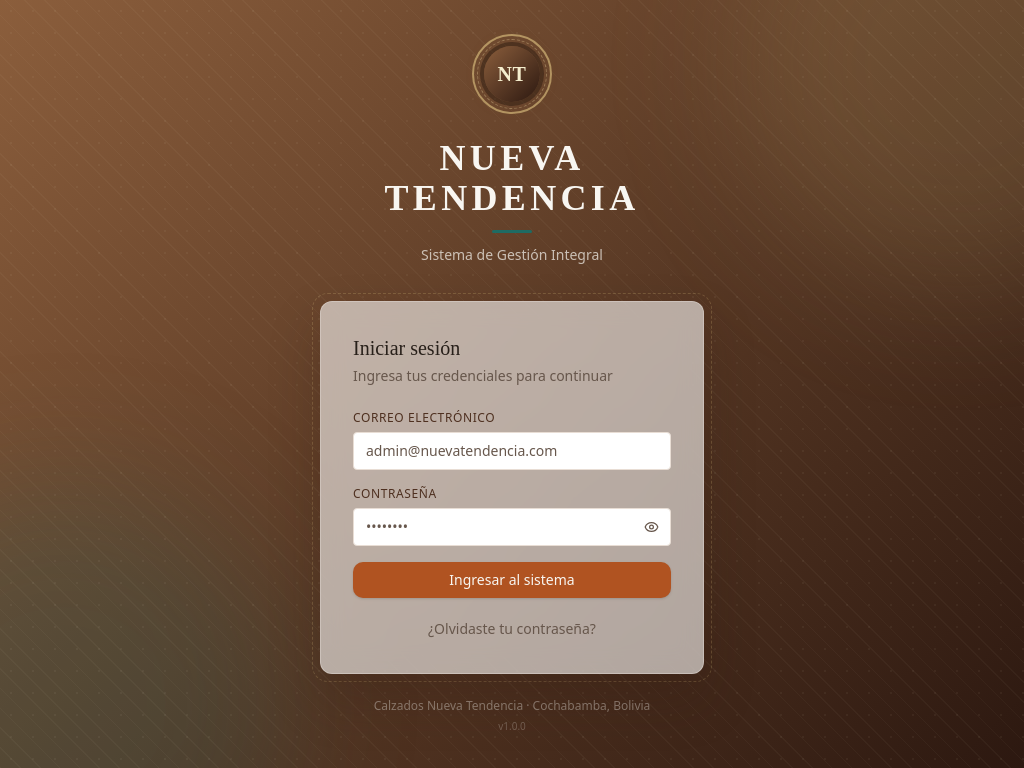
Test: LoginView › muestra error de validación cuando el email está mal formado
The image size is (1024, 768).
Type "no-es-un-email" into the field with placeholder "admin@nuevatendencia.com" at (512, 451), box [353,432,671,470]
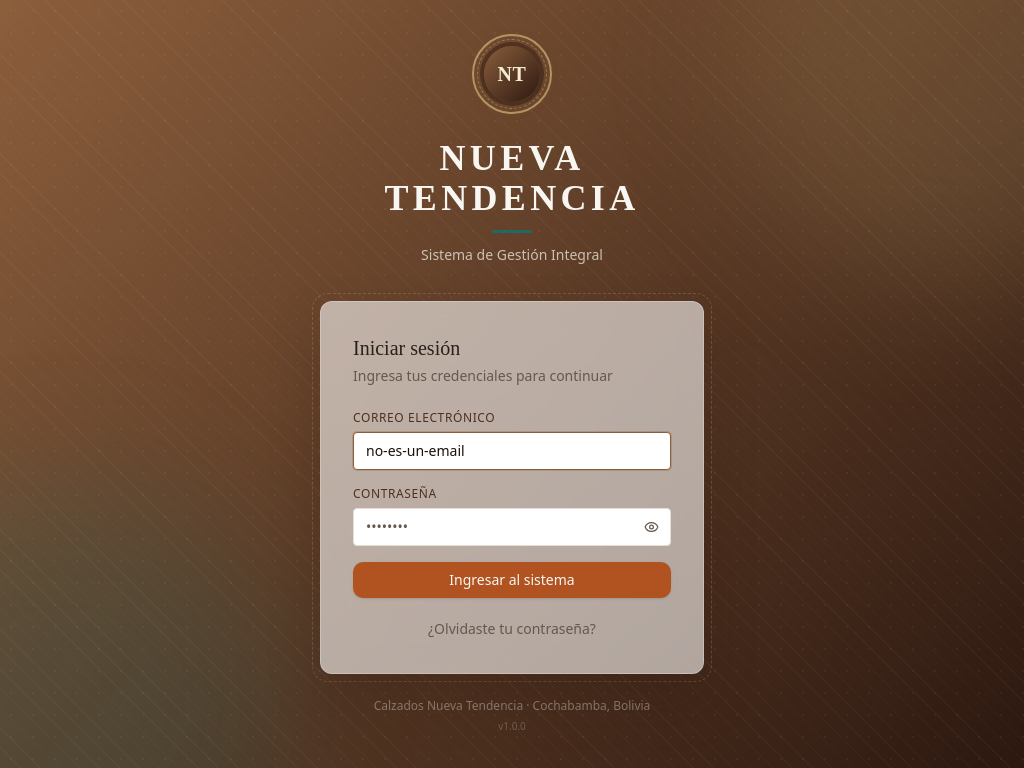
Type "algunaClave" into the password field with placeholder "••••••••" at (512, 527), box [353,508,671,546]
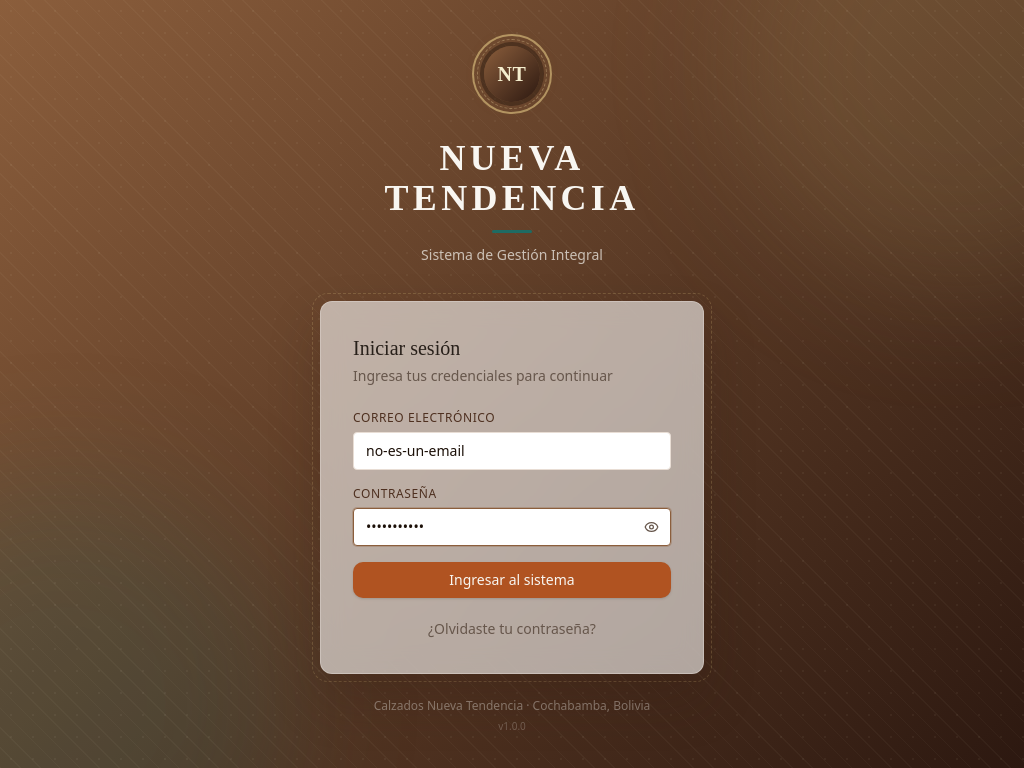
Click the button "Ingresar al sistema" at (512, 580), box [353,562,671,598]
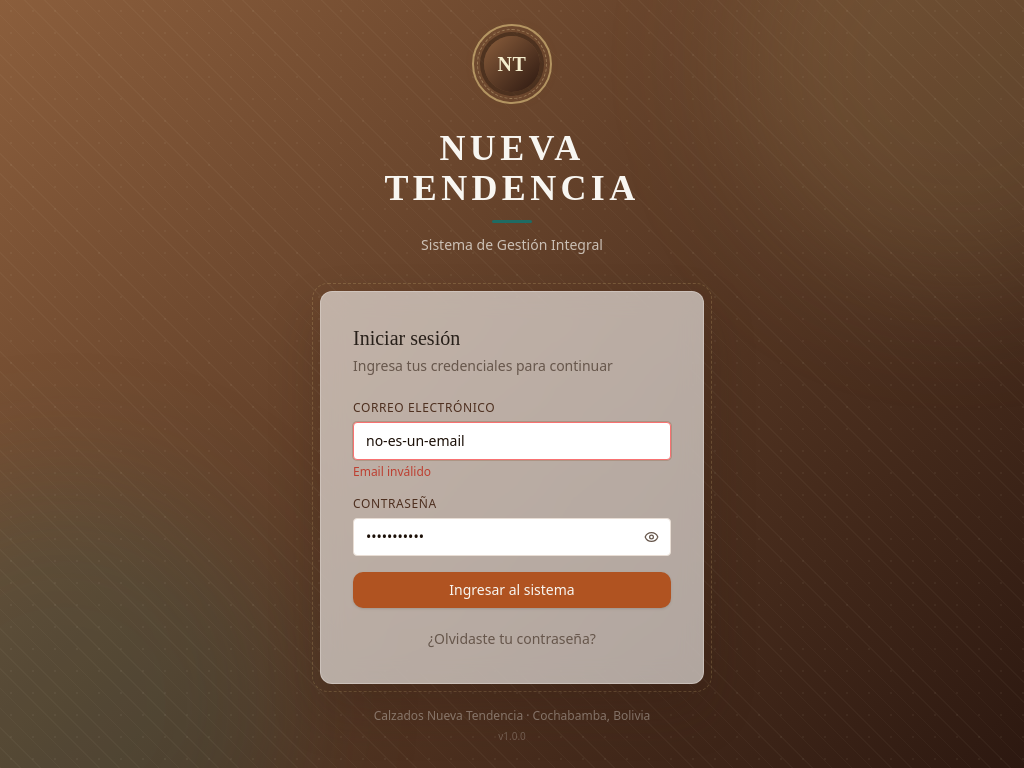
Expected: the text "Email inválido" is shown, [353,463,431,480]
